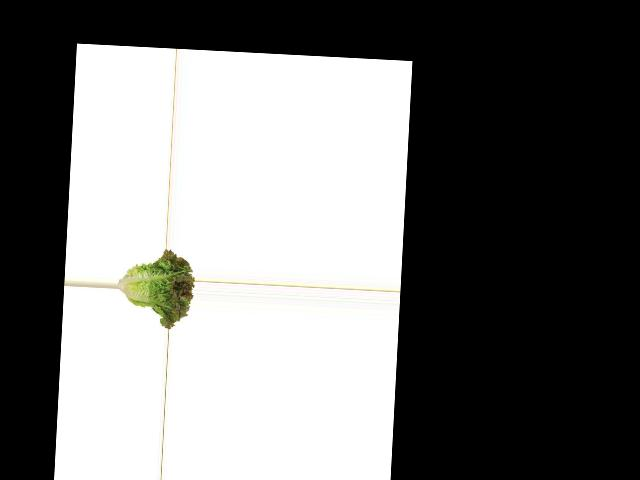lettuce: (115, 247, 195, 330)
